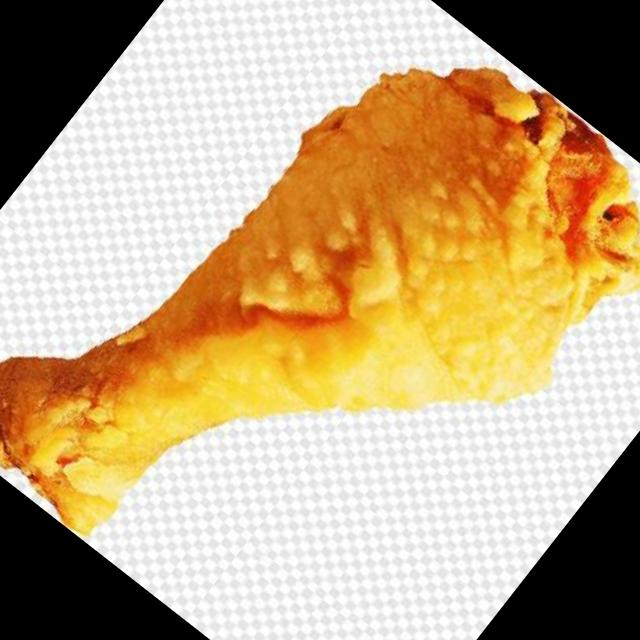Fried Chicken: (0, 64, 640, 539)
